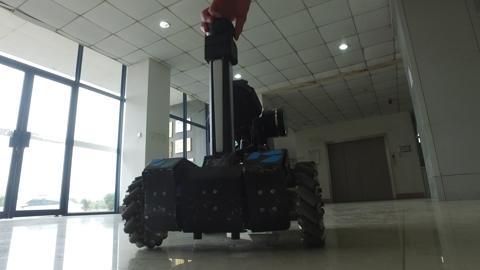chariot: (114, 19, 338, 260)
